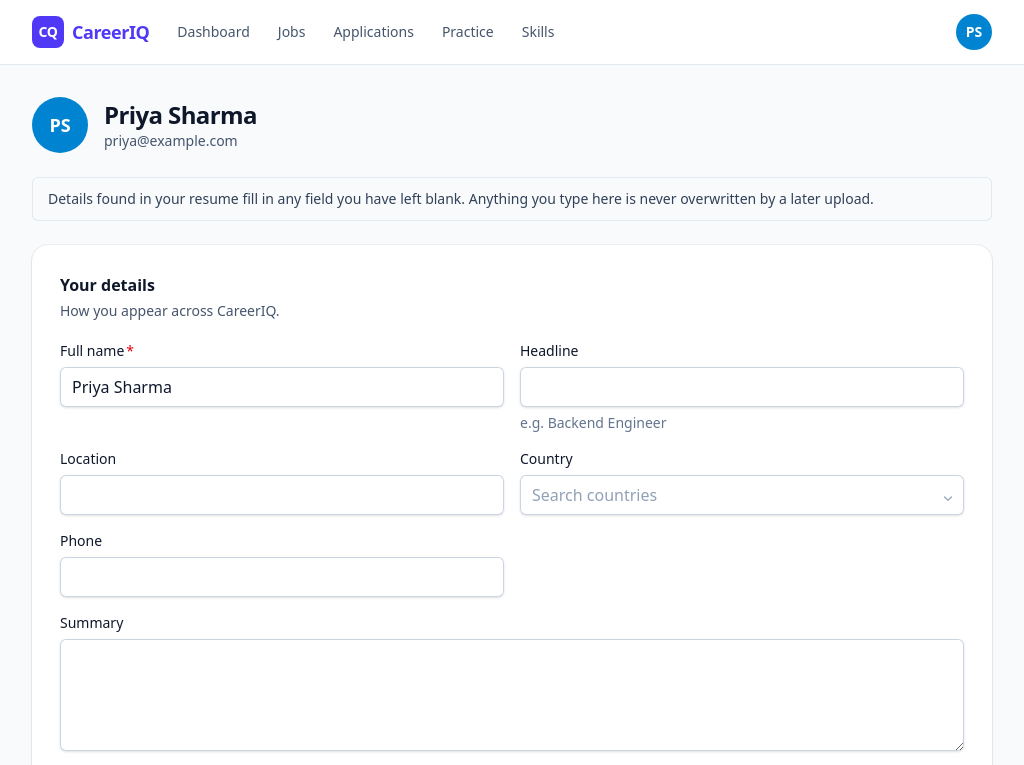
Test: ProfilePage › required fields › clears a message as soon as the field is valid, with no second press
The width and height of the screenshot is (1024, 765).
Clear the field labelled "Full name*" at {"x": 282, "y": 387}, box left=60, top=367, right=504, bottom=407
(page scrolled)
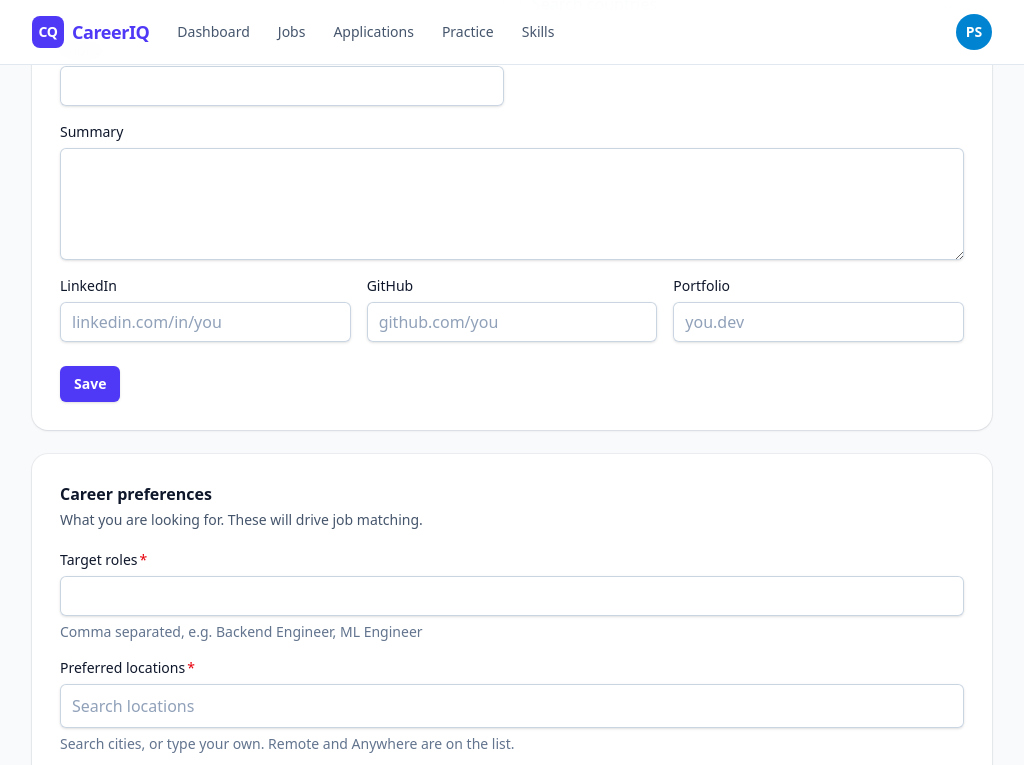
Click the button "Save".
click(90, 384)  # box left=60, top=366, right=120, bottom=402
(page scrolled)
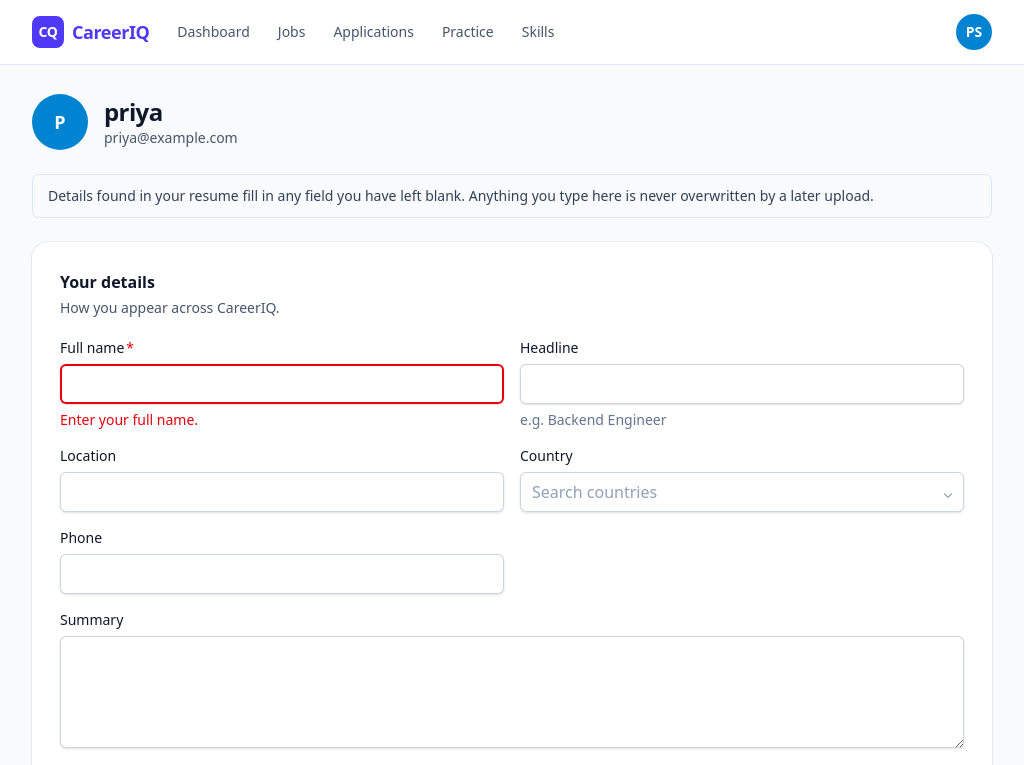
Check: the text "Enter your full name." is shown, box left=60, top=410, right=198, bottom=429
Type "Priya" into the field labelled "Full name*".
click(282, 384); type("Priya")  # box left=60, top=364, right=504, bottom=404
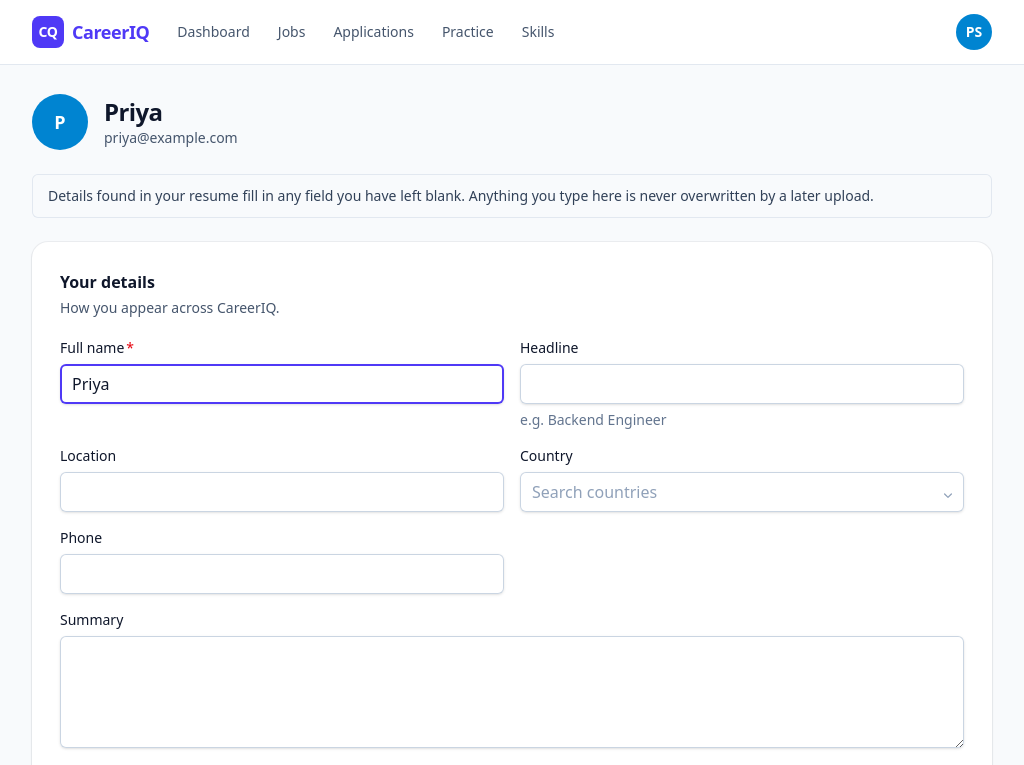
Check: the text "Enter your full name." is gone
